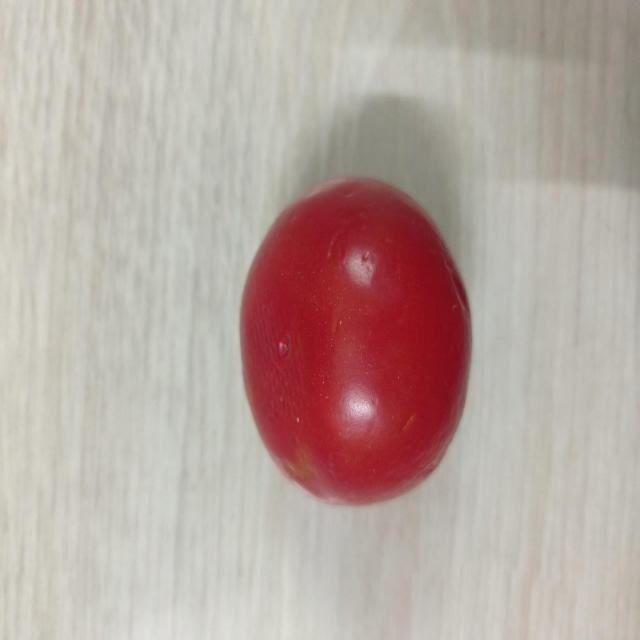Tomato: (237, 176, 478, 507)
